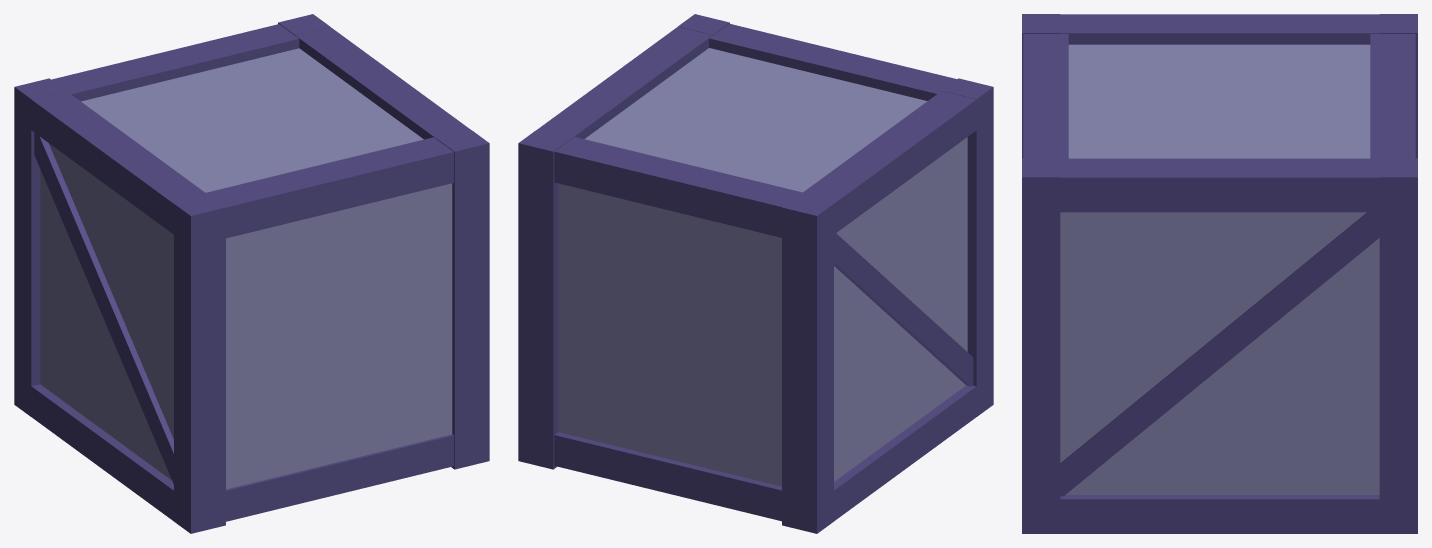
The model's file is box_unbroken.fbx.
3 renders of one model, left to right at view 1: azimuth 30°, elevation 25°; view 2: azimuth 150°, elevation 25°; view 3: azimuth 270°, elevation 25°, orthographic. The views are drawn at different scales.
Parts seen in each view (by area): view 1: Cube, Cube.025, Cube.014, Cube.026, Cube.023, Cube.024, Cube.027, Cube.029, Cube.021, Cube.017, Cube.022, Cube.016; view 2: Cube, Cube.024, Cube.016, Cube.029, Cube.023, Cube.025, Cube.028, Cube.026, Cube.017, Cube.022, Cube.021, Cube.014; view 3: Cube, Cube.017, Cube.016, Cube.014, Cube.018, Cube.019, Cube.023, Cube.029, Cube.026, Cube.024, Cube.025.
Boxes of the visible parts, left/top/right/bottom form: Cube: left=40, top=48, right=452, bottom=489; Cube.025: left=174, top=195, right=225, bottom=533; Cube.014: left=437, top=131, right=489, bottom=469; Cube.026: left=206, top=137, right=453, bottom=238; Cube.023: left=31, top=91, right=208, bottom=234; Cube.024: left=14, top=78, right=65, bottom=416; Cube.027: left=226, top=434, right=453, bottom=521; Cube.029: left=51, top=24, right=299, bottom=101; Cube.021: left=34, top=133, right=173, bottom=484; Cube.017: left=295, top=26, right=471, bottom=139; Cube.022: left=31, top=384, right=173, bottom=521; Cube.016: left=278, top=14, right=329, bottom=35; Cube: left=558, top=48, right=967, bottom=486; Cube.024: left=782, top=195, right=833, bottom=533; Cube.016: left=518, top=131, right=570, bottom=469; Cube.029: left=554, top=137, right=802, bottom=237; Cube.023: left=799, top=91, right=976, bottom=234; Cube.025: left=942, top=78, right=993, bottom=416; Cube.028: left=554, top=432, right=781, bottom=521; Cube.026: left=709, top=23, right=956, bottom=100; Cube.017: left=536, top=26, right=712, bottom=139; Cube.022: left=834, top=385, right=976, bottom=521; Cube.021: left=834, top=233, right=973, bottom=386; Cube.014: left=678, top=14, right=729, bottom=35; Cube: left=1060, top=44, right=1379, bottom=494; Cube.017: left=1060, top=158, right=1379, bottom=212; Cube.016: left=1379, top=158, right=1417, bottom=533; Cube.014: left=1022, top=158, right=1060, bottom=533; Cube.018: left=1060, top=495, right=1379, bottom=533; Cube.019: left=1060, top=212, right=1379, bottom=496; Cube.023: left=1060, top=14, right=1379, bottom=44; Cube.029: left=1370, top=34, right=1415, bottom=158; Cube.026: left=1023, top=34, right=1068, bottom=158; Cube.024: left=1379, top=14, right=1417, bottom=158; Cube.025: left=1022, top=14, right=1060, bottom=158.
Size of the model in its own units: 79.16 by 80.49 by 81.
